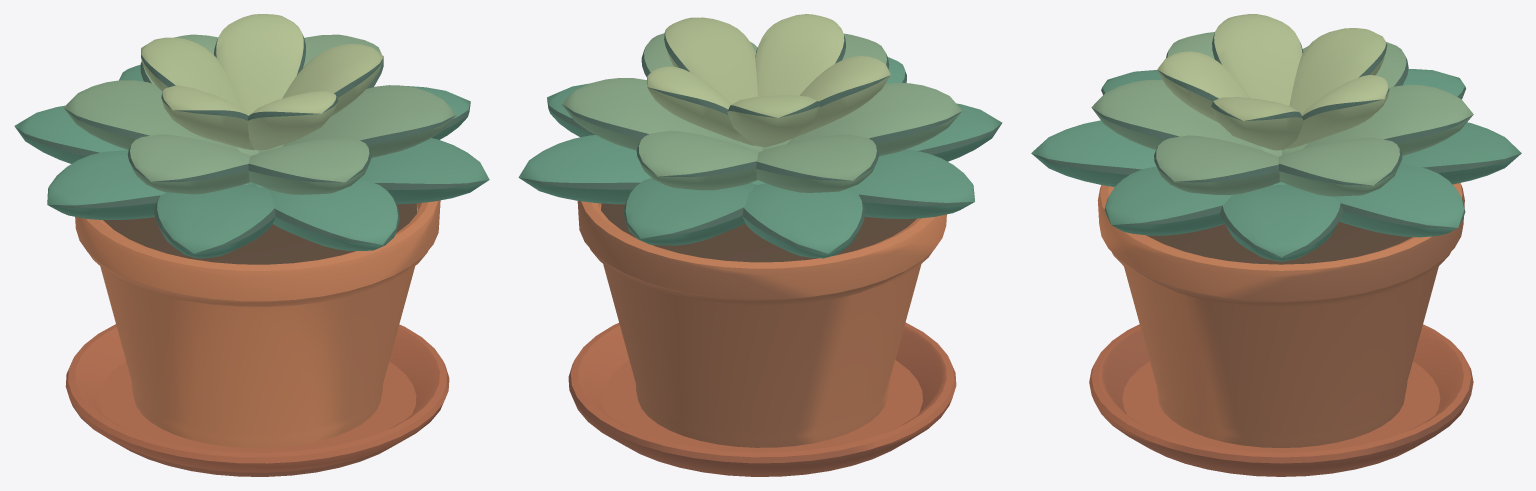
Rendered from 时尚小垃圾.glb.
The picture shows the model from 3 angles, left to right: view 1: azimuth 30°, elevation 25°; view 2: azimuth 150°, elevation 25°; view 3: azimuth 270°, elevation 25°; orthographic projection.
Visible parts, largest first — view 1: Asset_altar; view 2: Asset_altar; view 3: Asset_altar.
Boxes of the visible parts, x1=… form: Asset_altar: x1=14, y1=14, x2=489, y2=476; Asset_altar: x1=518, y1=14, x2=1002, y2=476; Asset_altar: x1=1031, y1=14, x2=1521, y2=476.
Bounding box in the file's own units: 4.5 × 3.54 × 4.51.
1 material, 1 textured.
